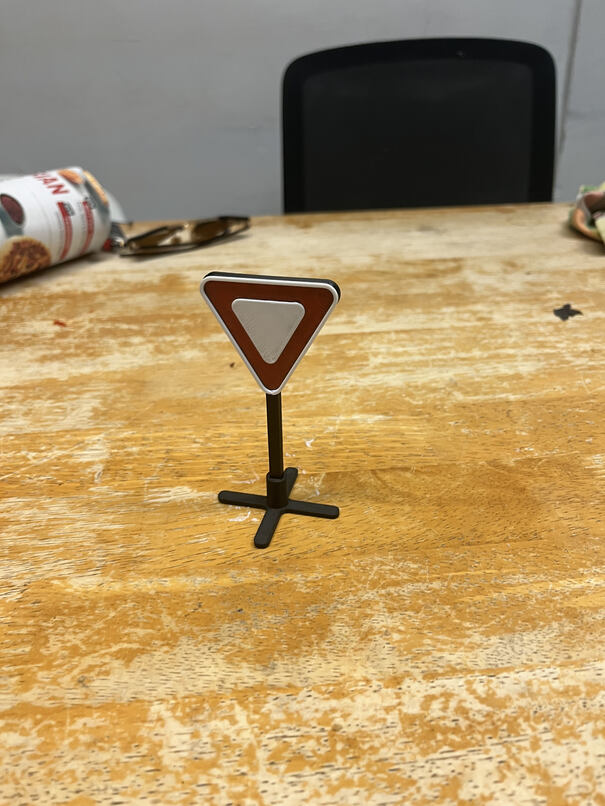sign_yield: (202, 270, 348, 398)
